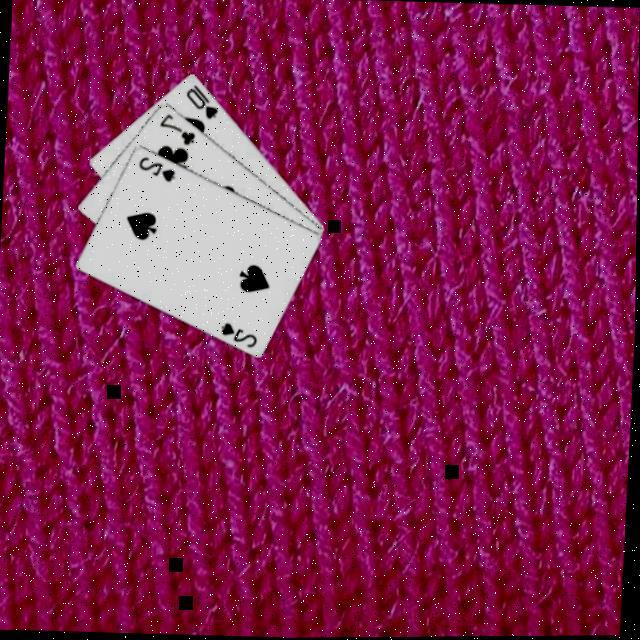10S: (183, 79, 222, 120)
2S: (219, 317, 262, 348), (136, 152, 178, 182)
7C: (156, 108, 200, 146)
